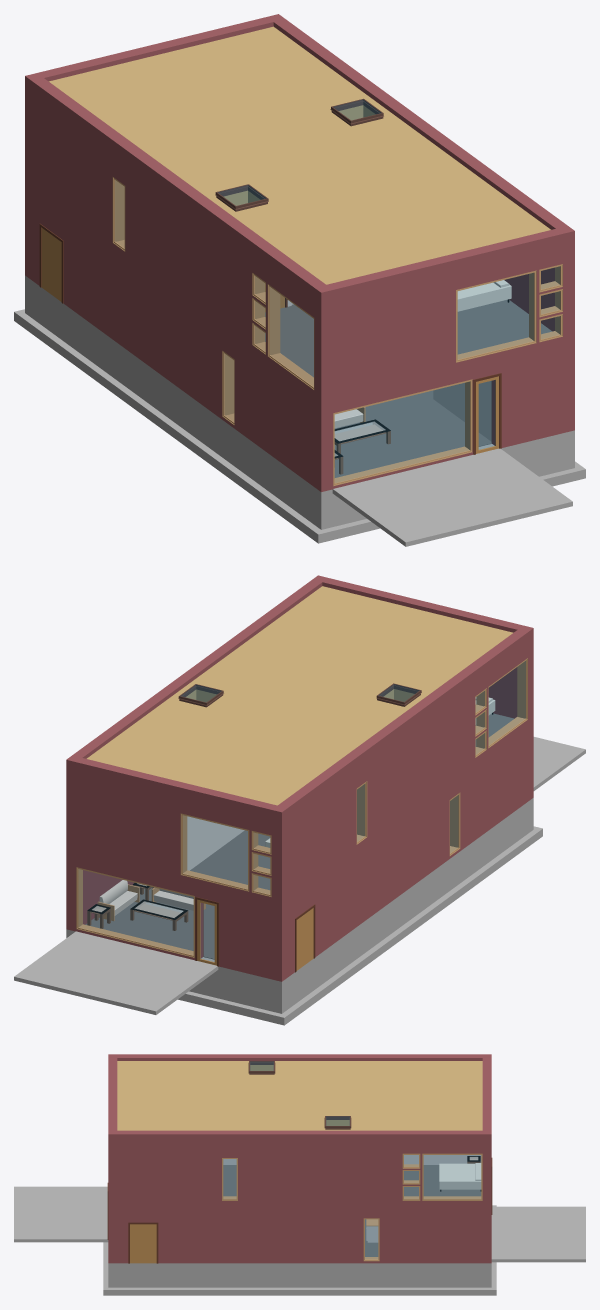
File: Duplexfromxeokit.dae
3 views of the same model, one above another, from view 1: azimuth 30°, elevation 25°; view 2: azimuth 150°, elevation 25°; view 3: azimuth 270°, elevation 25° (orthographic). The views are drawn at different scales.
Parts seen in each view (by area): view 1: 13211_ToitdebaseLiveRoofoverWoodJoistFlatRoof1844831, 1556_MurdebaseExteriorBrickonBlock138310, 3090_MurdebaseExteriorBrickonBlock143590, 3002_MurdebaseExteriorBrickonBlock143534, 29187_Sol150mmExteriorSlabonGrade216552, 1510_MurdebaseExteriorBrickonBlock138237, 2264_MurdebaseFoundationConcrete417mm140602, 4007_M_Fixed4835mmx2420mm146016, 13546_MurdebaseExteriorBrickonBlock185101, 12458_SolFinishFloorWood170352, 13500_MurdebaseExteriorBrickonBlock185064, 4847_M_Fixed2800mmx2410mm149278 (+19 smaller); view 2: 13211_ToitdebaseLiveRoofoverWoodJoistFlatRoof1844831, 1556_MurdebaseExteriorBrickonBlock138310, 3090_MurdebaseExteriorBrickonBlock143590, 2789_MurdebaseExteriorBrickonBlock143410, 29141_Sol150mmExteriorSlabonGrade216507, 1305_MurdebaseExteriorBrickonBlock138062, 2264_MurdebaseFoundationConcrete417mm140602, 3976_M_Fixed4835mmx2420mm145788, 13546_MurdebaseExteriorBrickonBlock185101, 13408_MurdebaseExteriorBrickonBlock184944, 4488_M_Fixed2800mmx2410mm147686, 14255_SemellefilanteBearingFooting900x300186612 (+20 smaller); view 3: 13211_ToitdebaseLiveRoofoverWoodJoistFlatRoof1844831, 1464_MurdebaseExteriorBrickonBlock138157, 2885_MurdebaseExteriorBrickonBlock143478, 2172_MurdebaseFoundationConcrete417mm140520, 13454_MurdebaseExteriorBrickonBlock185014, 29141_Sol150mmExteriorSlabonGrade216507, 29187_Sol150mmExteriorSlabonGrade216552, 14187_SemellefilanteBearingFooting900x300186596, 13018_M_Fixed2800mmx2410mm181096, 13546_MurdebaseExteriorBrickonBlock185101, 4146_M_SingleFlush1250mmx2010mm146596, 12005_SolFinishFloorWood169188 (+10 smaller).
Boxes of the visible parts, left/top/right/bottom form: 13211_ToitdebaseLiveRoofoverWoodJoistFlatRoof1844831: left=49, top=26, right=550, bottom=284; 1556_MurdebaseExteriorBrickonBlock138310: left=32, top=187, right=314, bottom=486; 3090_MurdebaseExteriorBrickonBlock143590: left=25, top=94, right=321, bottom=398; 3002_MurdebaseExteriorBrickonBlock143534: left=321, top=249, right=574, bottom=398; 29187_Sol150mmExteriorSlabonGrade216552: left=332, top=448, right=572, bottom=546; 1510_MurdebaseExteriorBrickonBlock138237: left=314, top=340, right=562, bottom=491; 2264_MurdebaseFoundationConcrete417mm140602: left=32, top=281, right=314, bottom=524; 4007_M_Fixed4835mmx2420mm146016: left=333, top=379, right=472, bottom=486; 13546_MurdebaseExteriorBrickonBlock185101: left=32, top=78, right=325, bottom=305; 12458_SolFinishFloorWood170352: left=334, top=390, right=491, bottom=477; 13500_MurdebaseExteriorBrickonBlock185064: left=314, top=229, right=562, bottom=310; 4847_M_Fixed2800mmx2410mm149278: left=456, top=270, right=536, bottom=362; 13211_ToitdebaseLiveRoofoverWoodJoistFlatRoof1844831: left=86, top=586, right=513, bottom=805; 1556_MurdebaseExteriorBrickonBlock138310: left=287, top=722, right=527, bottom=977; 3090_MurdebaseExteriorBrickonBlock143590: left=282, top=644, right=533, bottom=901; 2789_MurdebaseExteriorBrickonBlock143410: left=66, top=775, right=281, bottom=902; 29141_Sol150mmExteriorSlabonGrade216507: left=14, top=931, right=218, bottom=1014; 1305_MurdebaseExteriorBrickonBlock138062: left=66, top=850, right=287, bottom=981; 2264_MurdebaseFoundationConcrete417mm140602: left=287, top=802, right=527, bottom=1009; 3976_M_Fixed4835mmx2420mm145788: left=76, top=867, right=194, bottom=957; 13546_MurdebaseExteriorBrickonBlock185101: left=278, top=630, right=527, bottom=823; 13408_MurdebaseExteriorBrickonBlock184944: left=66, top=755, right=287, bottom=827; 4488_M_Fixed2800mmx2410mm147686: left=180, top=813, right=249, bottom=891; 14255_SemellefilanteBearingFooting900x300186612: left=262, top=836, right=530, bottom=1025; 13211_ToitdebaseLiveRoofoverWoodJoistFlatRoof1844831: left=117, top=1061, right=482, bottom=1130; 1464_MurdebaseExteriorBrickonBlock138157: left=108, top=1202, right=482, bottom=1263; 2885_MurdebaseExteriorBrickonBlock143478: left=108, top=1146, right=491, bottom=1202; 2172_MurdebaseFoundationConcrete417mm140520: left=108, top=1263, right=482, bottom=1287; 13454_MurdebaseExteriorBrickonBlock185014: left=108, top=1130, right=482, bottom=1146; 29141_Sol150mmExteriorSlabonGrade216507: left=491, top=1206, right=585, bottom=1262; 29187_Sol150mmExteriorSlabonGrade216552: left=14, top=1186, right=108, bottom=1242; 14187_SemellefilanteBearingFooting900x300186596: left=103, top=1281, right=496, bottom=1295; 13018_M_Fixed2800mmx2410mm181096: left=422, top=1153, right=482, bottom=1200; 13546_MurdebaseExteriorBrickonBlock185101: left=117, top=1054, right=482, bottom=1060; 4146_M_SingleFlush1250mmx2010mm146596: left=128, top=1222, right=158, bottom=1263; 12005_SolFinishFloorWood169188: left=404, top=1165, right=481, bottom=1196.
Bounding box in the file's own units: 9.28 × 26.57 × 8.18.
